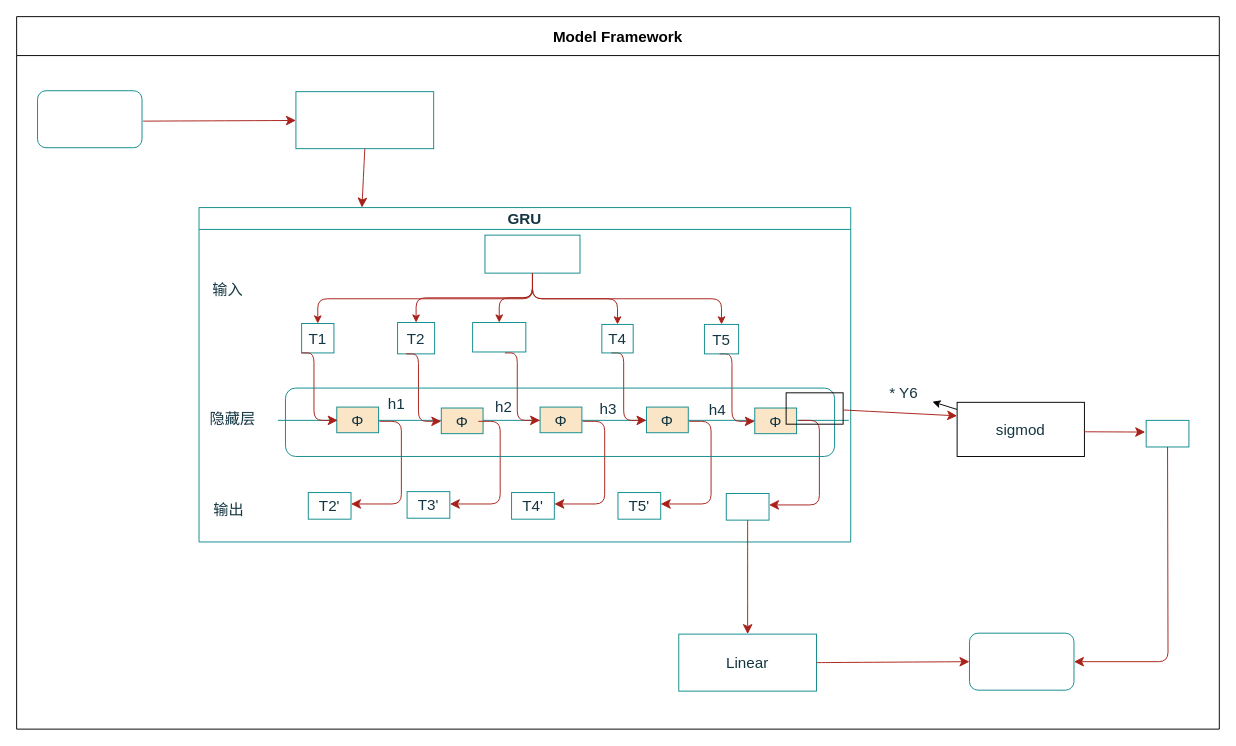
Image size: 1236x746. Some labels were removed from this diagram. Here are the shapes that lost their labels. From the top down, the centre of each, then its label:
At [89,119]: "Input[Y1-Y6]".
At [364,120]: "Embedding Layer".
At [532,253]: "input_emb".
At [499,337]: "T3".
At [814,408]: "h5".
At [1167,433]: "T7'".
At [747,506]: "T6'".
At [1021,661]: "output".
